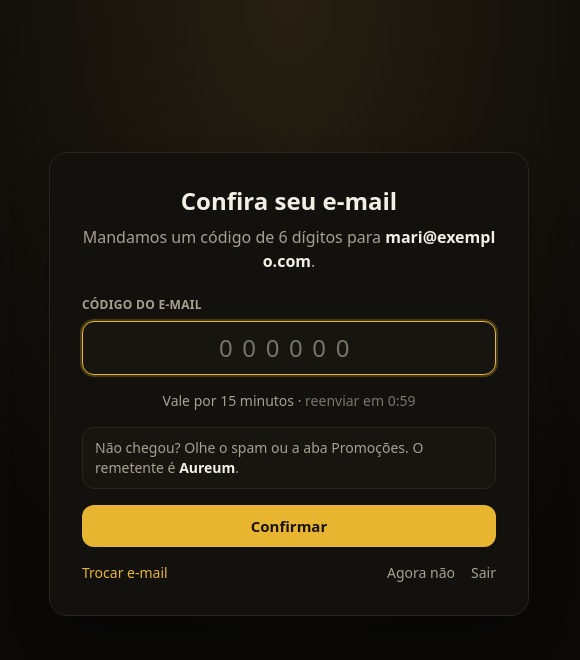
confirming the e-mail › explains a wrong code and waits a minute before resending
The width and height of the screenshot is (580, 660).
Check: the button "reenviar em 0:59" is disabled, box [305,391,416,411]
Type "111111" into the field named "Código de 6 dígitos" at (289, 348), box [82,321,496,375]
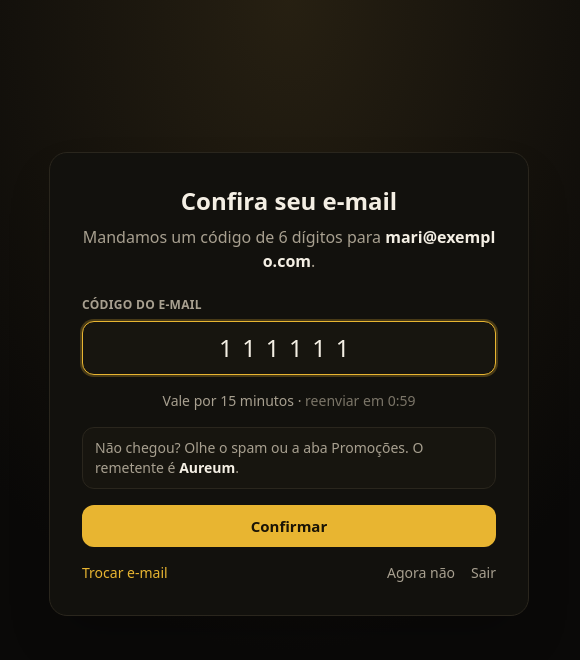
Click the button "Confirmar" at (289, 526), box [82,505,496,547]
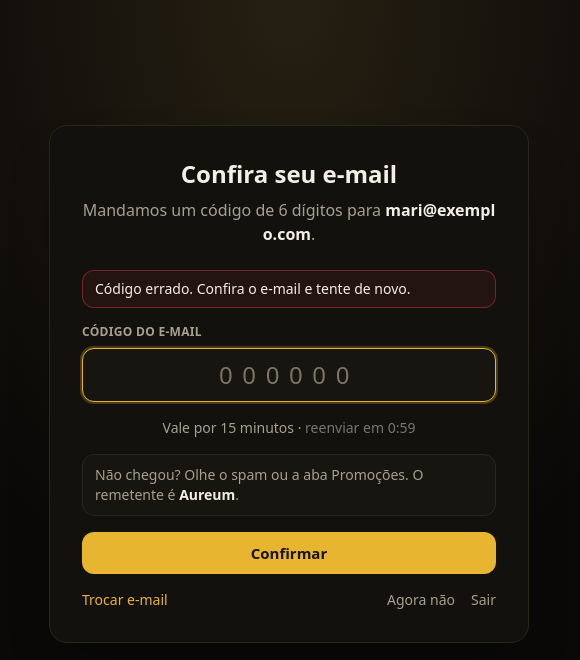
Check: the message reads "Código errado. Confira o e-mail e tente de novo.", box [95,279,410,298]
